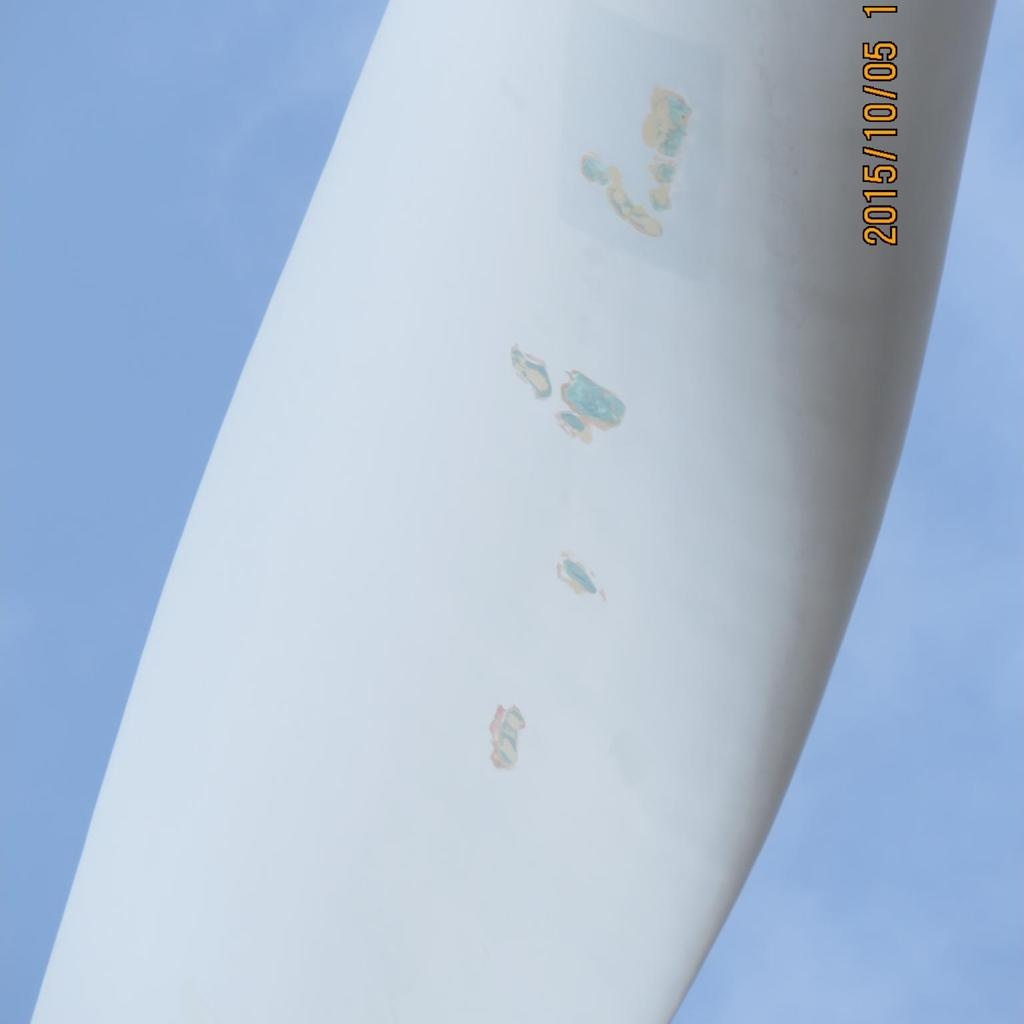surface_injure: (580, 85, 690, 250), (505, 347, 633, 449), (479, 696, 535, 779), (547, 552, 614, 600)
